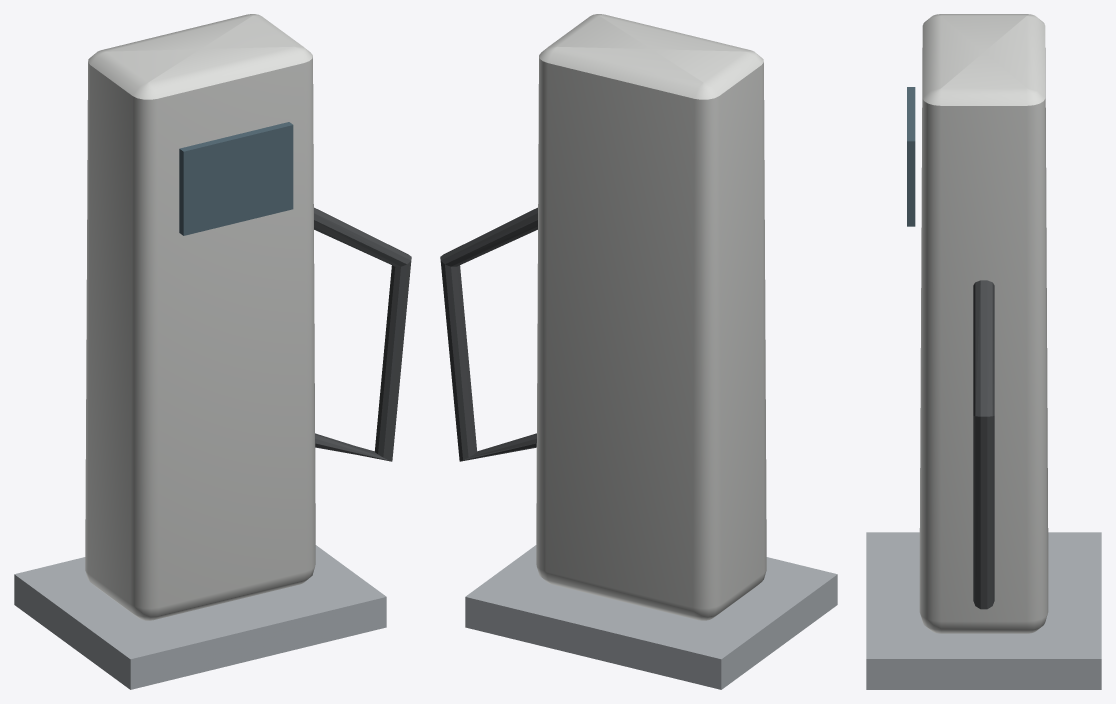
File: road-car-showroom-lineup-ev-charger-b4ef9cd4__15150.glb
The picture shows the model from 3 angles, left to right: view 1: azimuth 30°, elevation 25°; view 2: azimuth 150°, elevation 25°; view 3: azimuth 270°, elevation 25°; orthographic projection.
Visible parts, largest first — view 1: ev-charger; view 2: ev-charger; view 3: ev-charger.
Part boxes in pixels (left/top/right/bottom): ev-charger: left=14, top=14, right=411, bottom=689; ev-charger: left=440, top=14, right=837, bottom=689; ev-charger: left=866, top=14, right=1101, bottom=689.
Bounding box in the file's own units: 0.9225 × 1.48 × 0.55.
